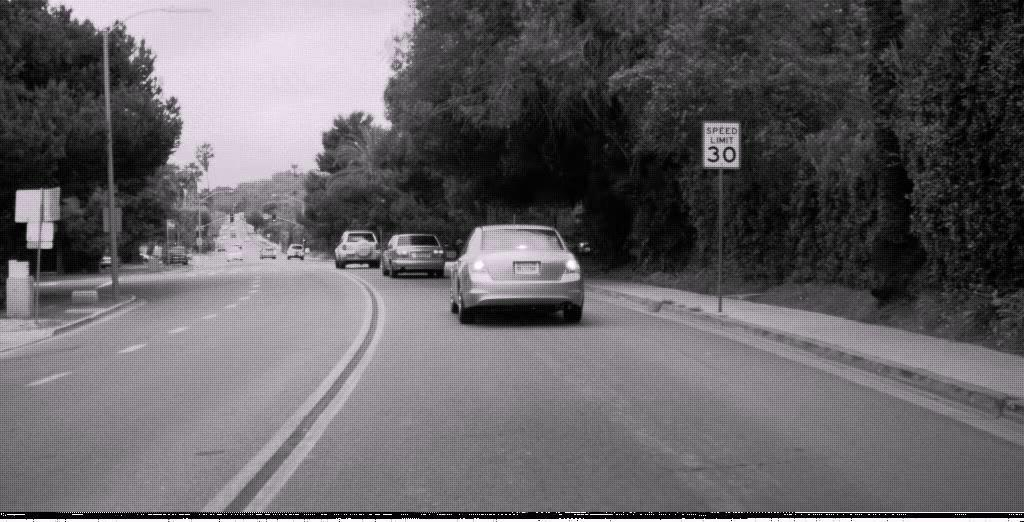30 MPH: (702, 120, 740, 169)
